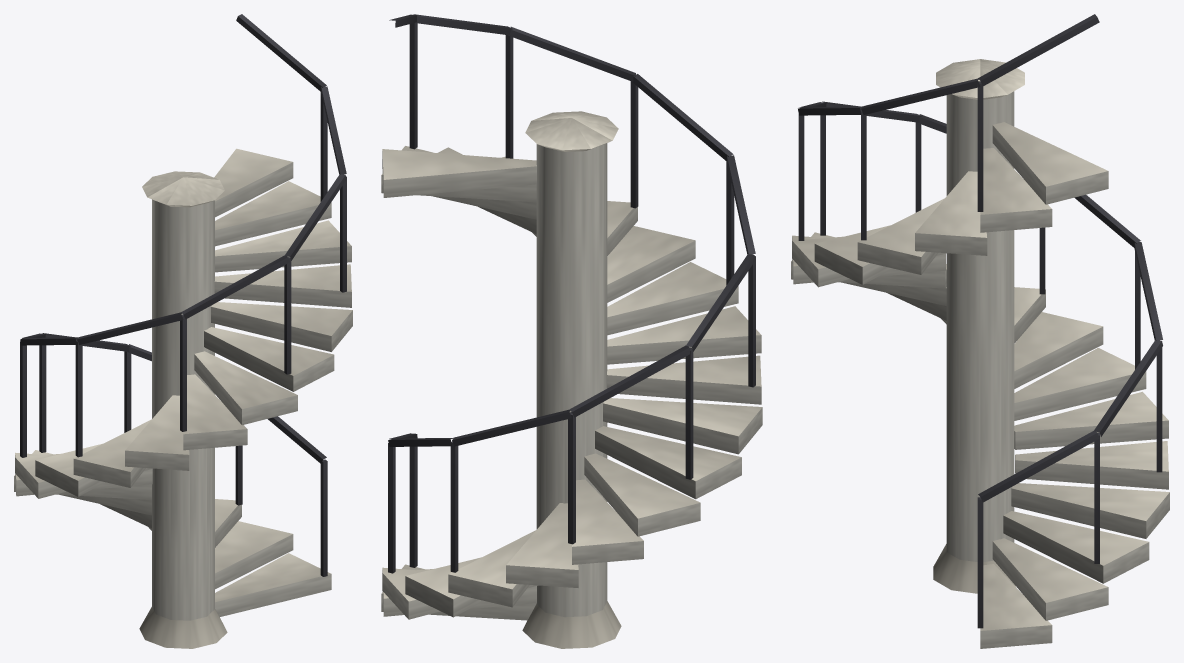
Rendered from stairs_spiral_01.glb.
The picture shows the model from 3 angles, left to right: view 1: azimuth 30°, elevation 25°; view 2: azimuth 150°, elevation 25°; view 3: azimuth 270°, elevation 25°; orthographic projection. The views are drawn at different scales.
Parts seen in each view (by area): view 1: stairs_spiral_01; view 2: stairs_spiral_01; view 3: stairs_spiral_01.
Part boxes in pixels (x1=…): stairs_spiral_01: x1=14, y1=14, x2=352, y2=648; stairs_spiral_01: x1=381, y1=14, x2=762, y2=648; stairs_spiral_01: x1=791, y1=14, x2=1169, y2=648.
Size of the model in its own units: 2.7 by 4.8 by 2.67.
Materials: 1 (1 with a texture image).
